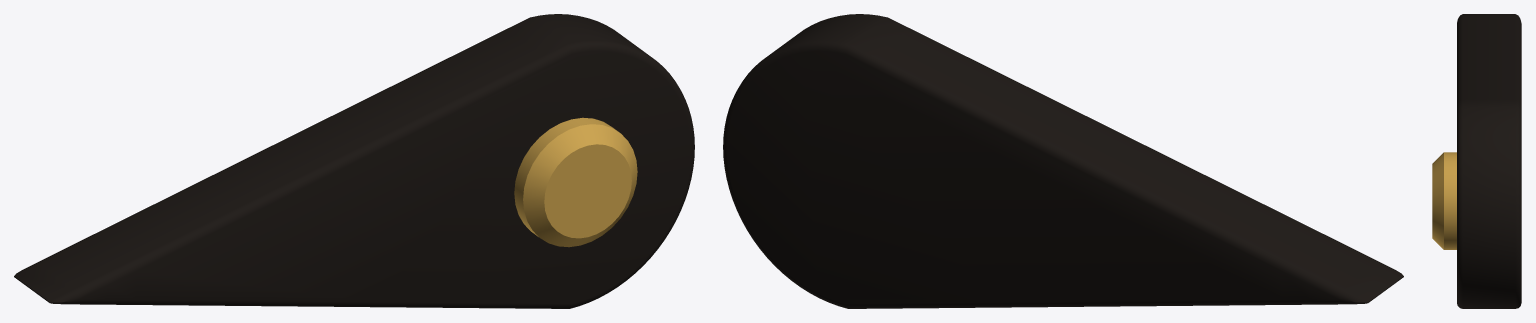
The model's file is rueda-pointer.glb.
The picture shows the model from 3 angles, left to right: view 1: azimuth 30°, elevation 25°; view 2: azimuth 150°, elevation 25°; view 3: azimuth 270°, elevation 25°; orthographic projection. The views are drawn at different scales.
Visible parts, largest first — view 1: PointerFlap; view 2: PointerFlap; view 3: PointerFlap.
Part boxes in pixels (box(x1,y1,x2,y2)): PointerFlap: box(14, 14, 694, 308); PointerFlap: box(723, 14, 1403, 308); PointerFlap: box(1432, 14, 1521, 308).
Size of the model in its own units: 0.3824 by 0.15 by 0.062.
